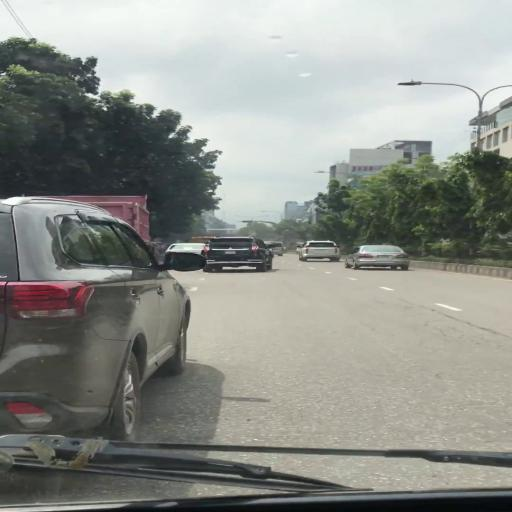car: (344, 245, 413, 271)
suv: (1, 214, 190, 448), (201, 236, 275, 275), (299, 241, 342, 263)
van: (270, 242, 289, 257)
